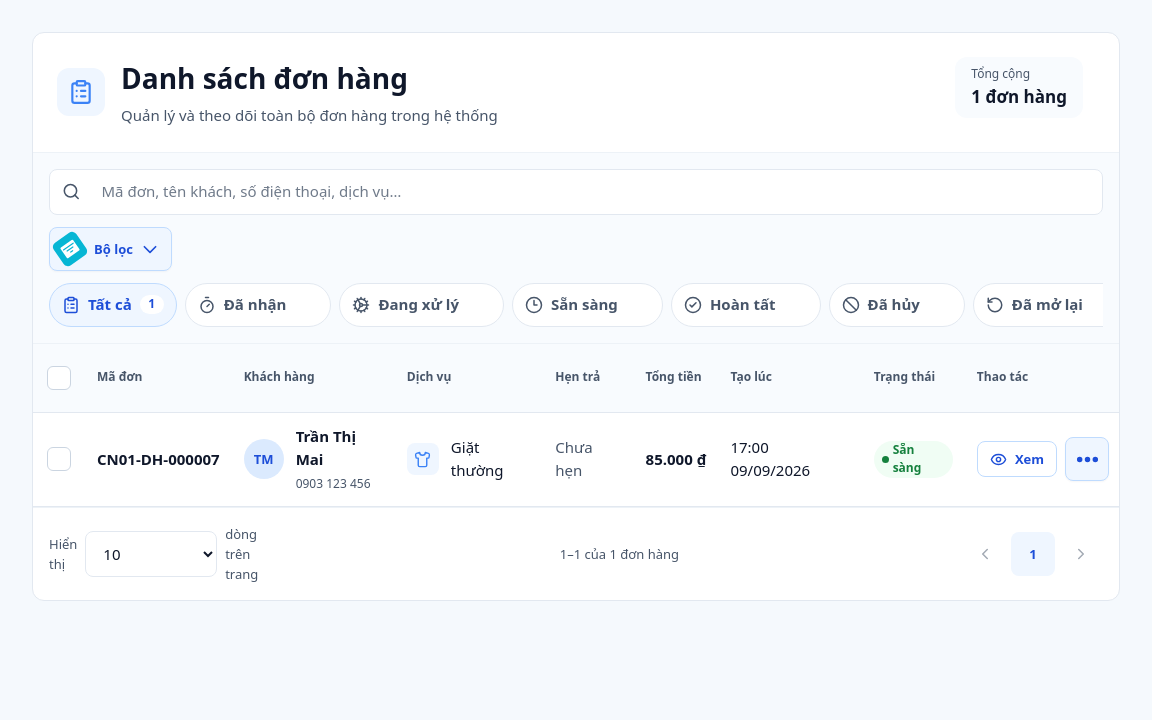
Test: Order pages › reserves the count slot when a status query cannot provide every tab count
Click the tab "Đã nhận": click(258, 305) top-left (185, 283), bottom-right (331, 327)
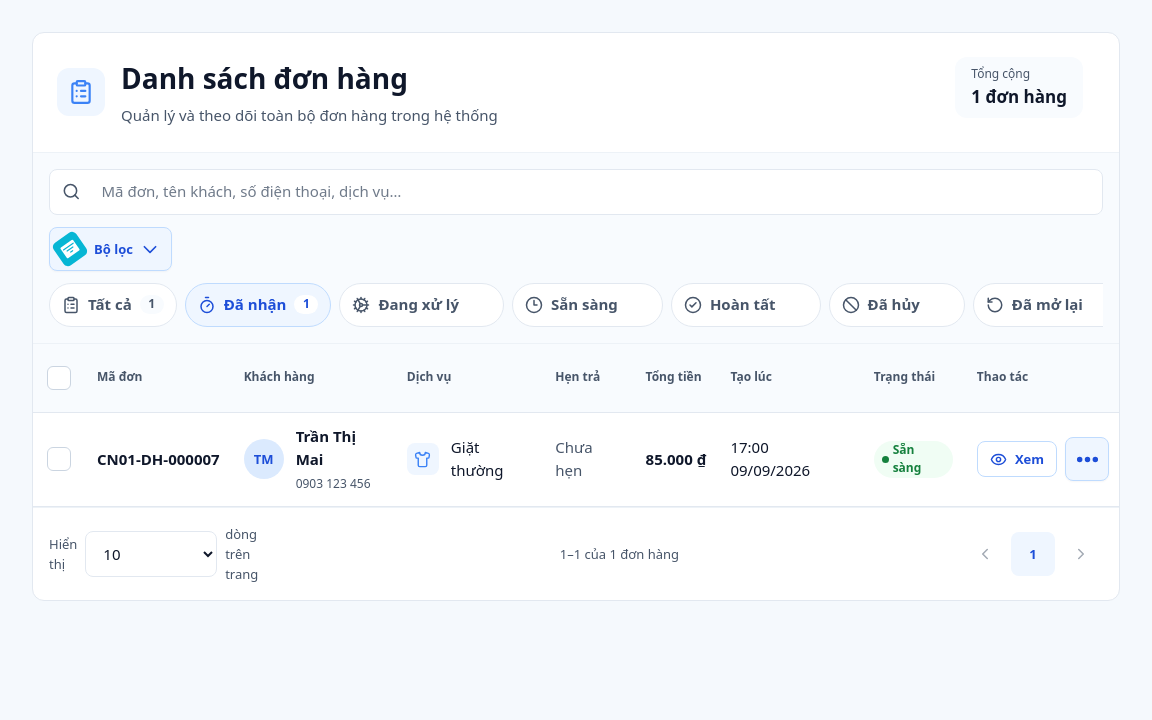
expect the 2nd text "1" is shown: met, box top-left (294, 295), bottom-right (318, 314)
